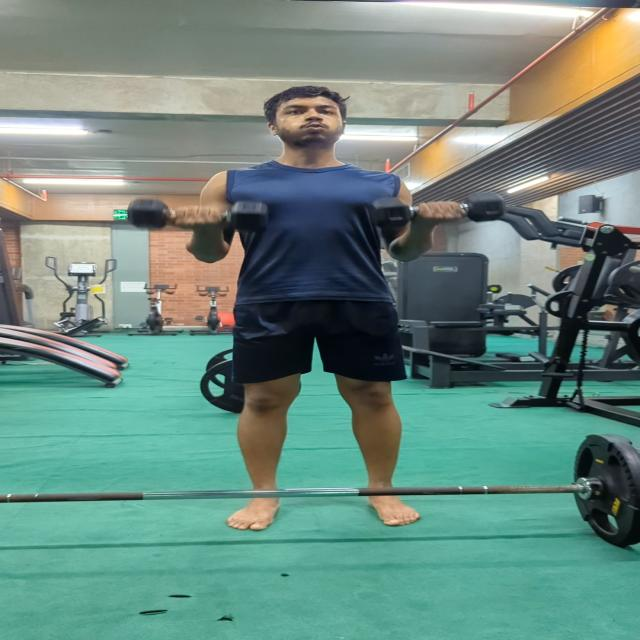Normal_DumbbellBicepCurls: (118, 80, 514, 534)
